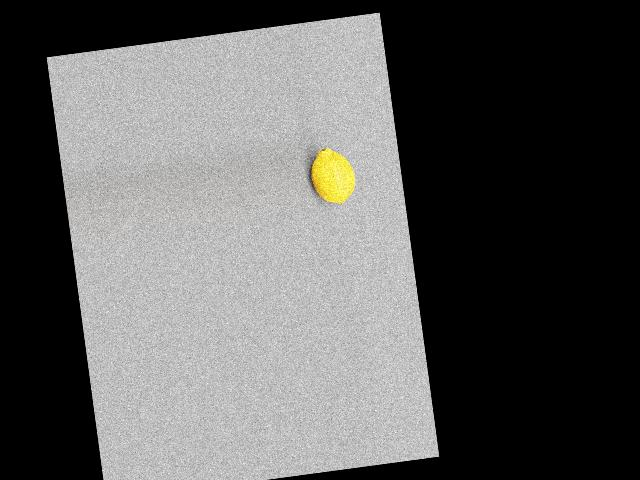lemon: (308, 144, 360, 207)
